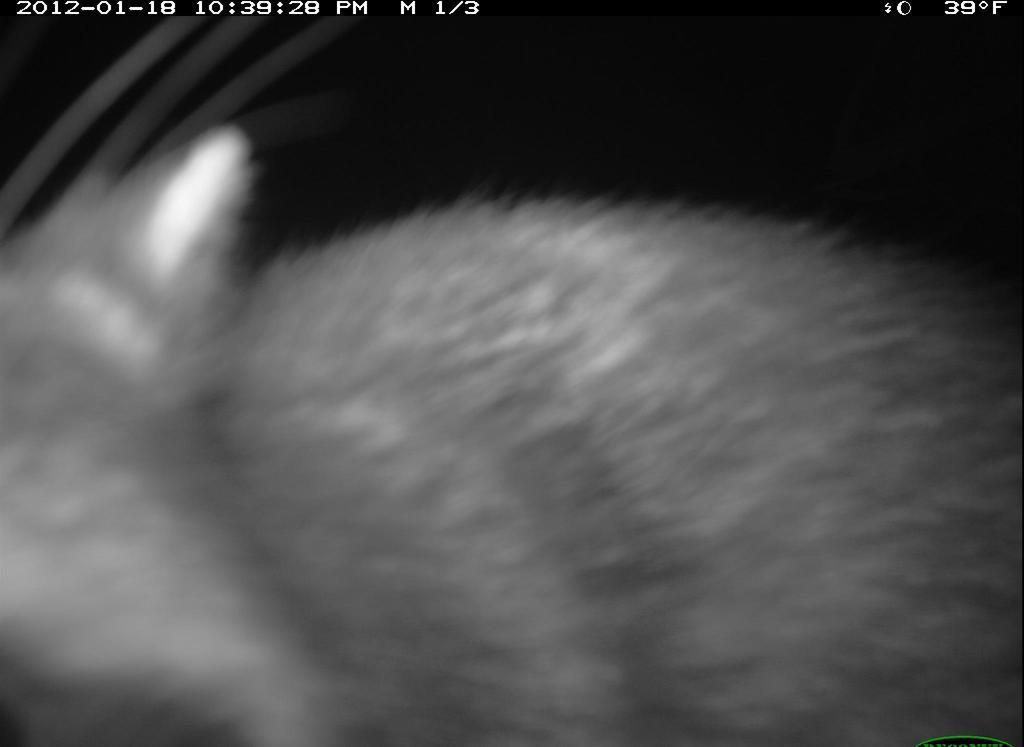raccoon: (3, 117, 1022, 747)
